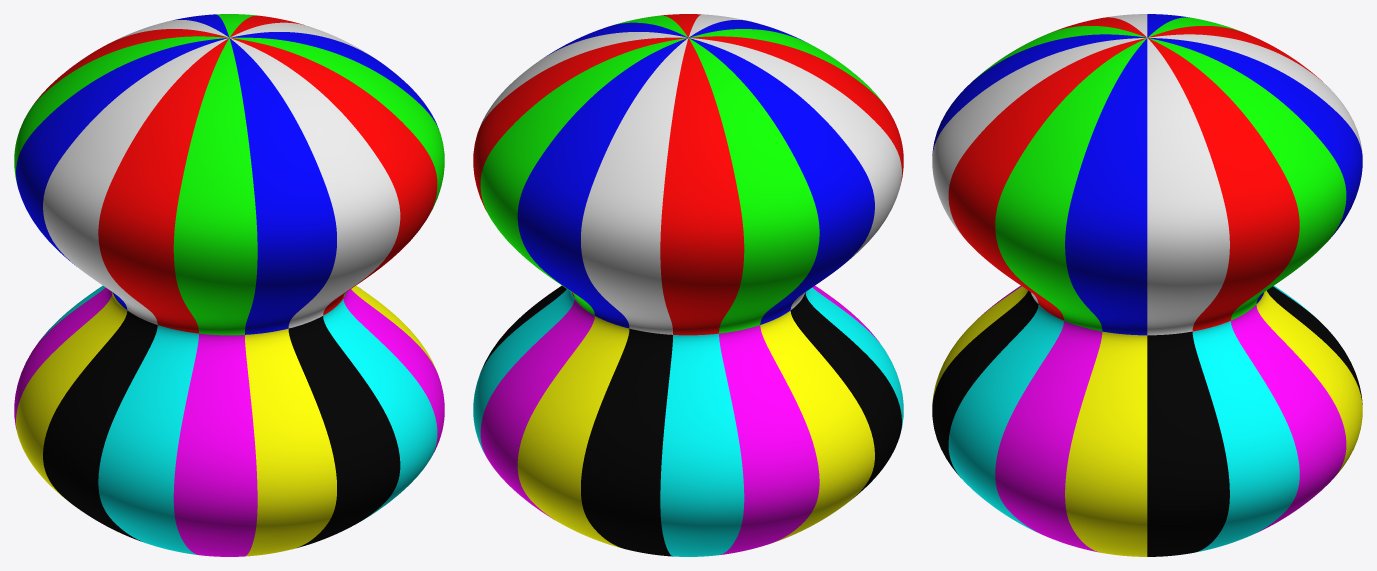
Rendered from ZoblatosImprovement.gltf.
3 renders of one model, left to right at view 1: azimuth 30°, elevation 25°; view 2: azimuth 150°, elevation 25°; view 3: azimuth 270°, elevation 25°, orthographic.
Parts seen in each view (by area): view 1: Zoblatos; view 2: Zoblatos; view 3: Zoblatos.
Boxes of the visible parts, <box> form: Zoblatos: <box>14,14,444,556</box>; Zoblatos: <box>473,14,903,556</box>; Zoblatos: <box>932,14,1362,556</box>.
Bounding box in the file's own units: 1.57 × 1.99 × 1.57.
